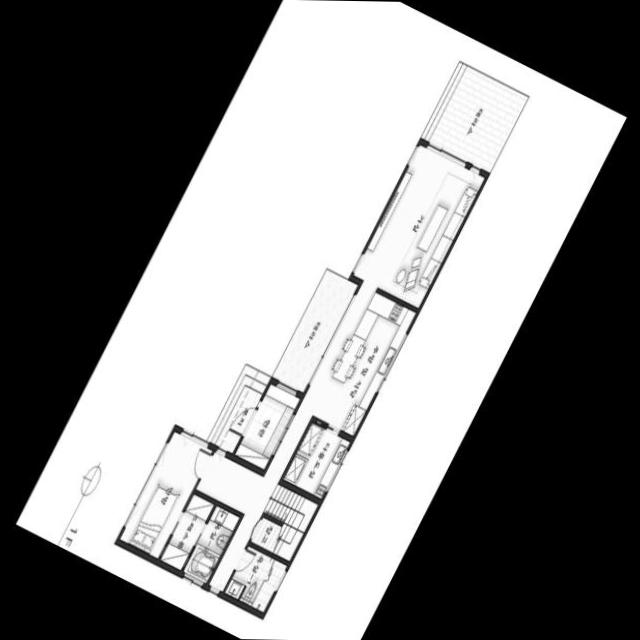background: (14, 0, 626, 640)
space_bedroom: (118, 431, 211, 558)
space_dressroom: (159, 493, 213, 570)
space_front: (233, 383, 299, 469)
space_kitchen: (311, 291, 415, 435)
space_living_room: (194, 144, 484, 591)
space_multipurpose_space: (282, 422, 349, 498)
space_other: (249, 517, 280, 550)
space_staircase: (262, 483, 317, 561)
space_toilet: (182, 505, 238, 583), (223, 545, 286, 612)
